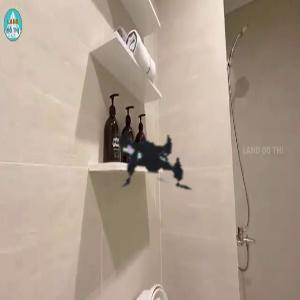drone: (19, 32, 267, 280)
